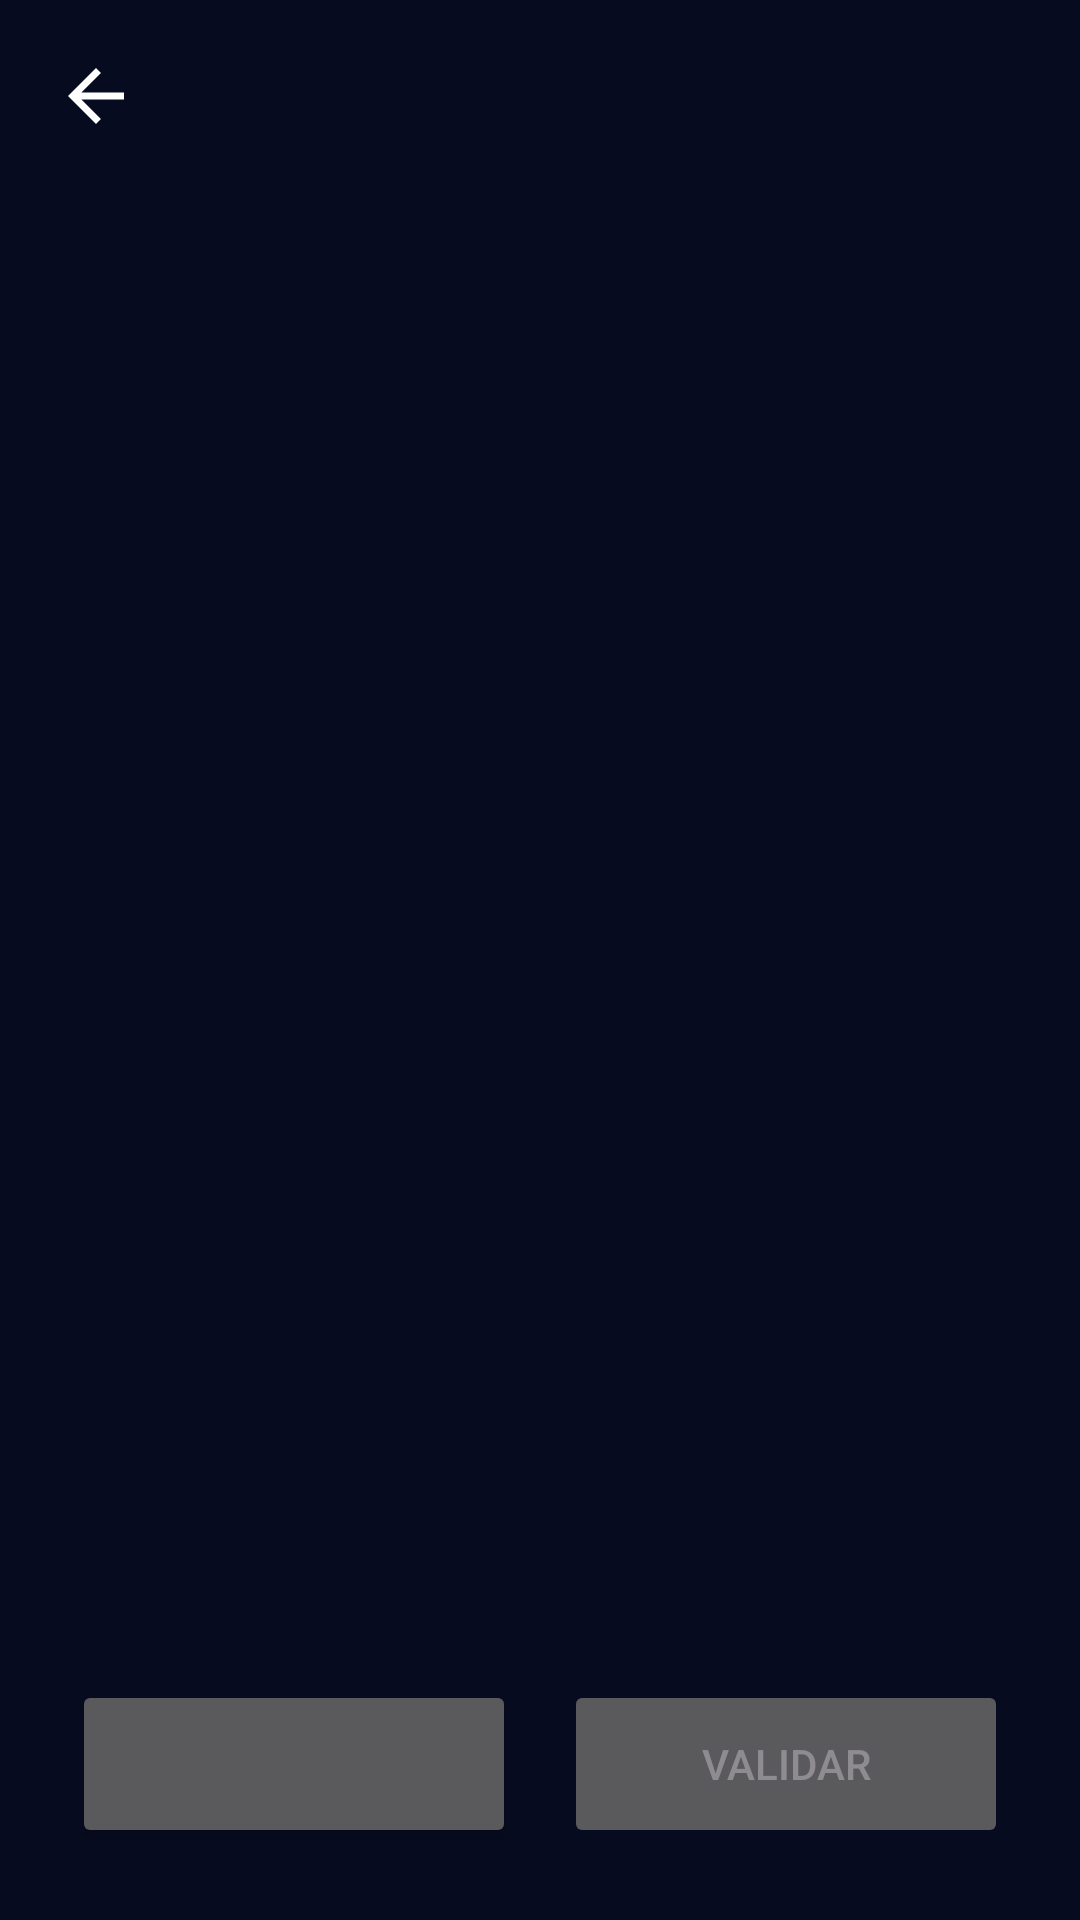

Screen size 1080*1920. Icon name, then its box in pixels as (x1, y1, x2, y2):
Voltar: (68, 68, 124, 124)
